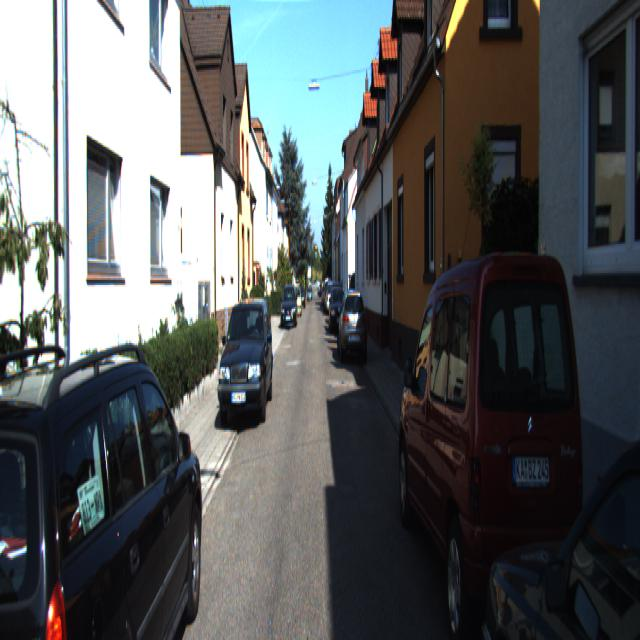Car: (398, 237, 593, 638), (0, 343, 210, 638), (476, 346, 640, 638), (218, 288, 274, 422), (337, 285, 365, 362), (329, 286, 348, 337), (281, 282, 297, 328)
